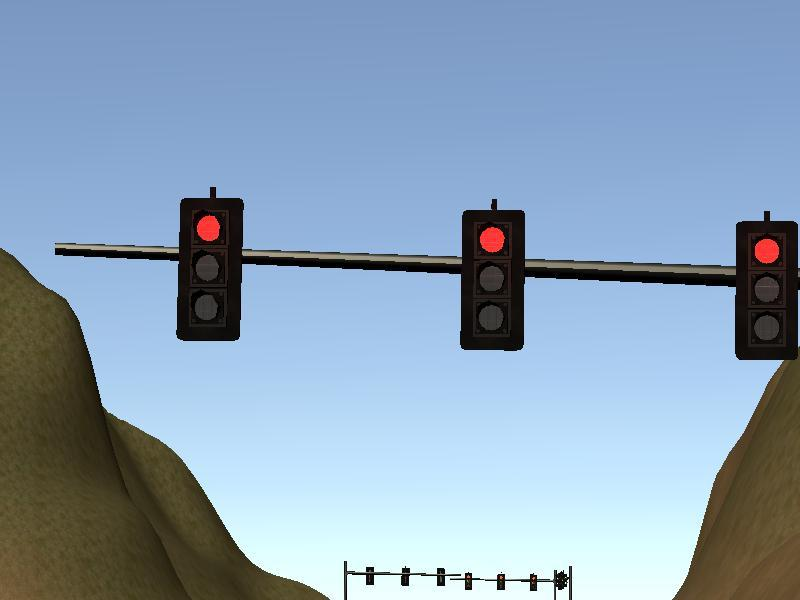Red: (180, 199, 238, 339), (738, 225, 798, 358), (465, 211, 521, 351)
